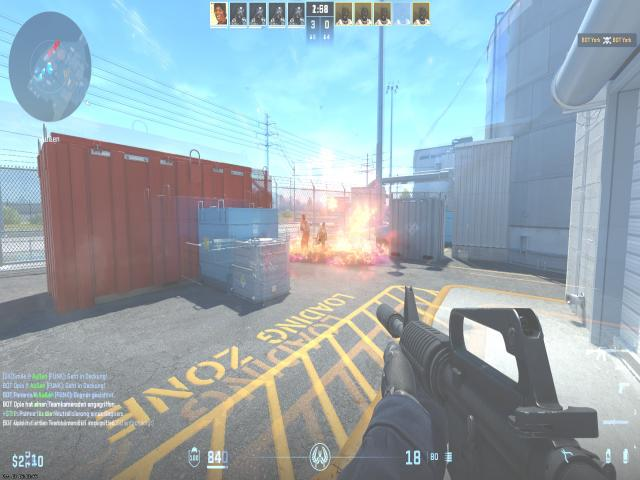Dead: (317, 221, 328, 248)
T: (300, 215, 310, 248)
T-Head: (302, 215, 306, 221)
